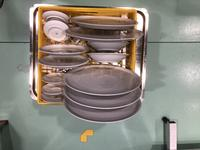Dish: (63, 64, 141, 96), (63, 96, 142, 123), (64, 85, 142, 109), (65, 26, 145, 42), (70, 16, 138, 30), (38, 55, 89, 69), (38, 44, 89, 56), (88, 40, 129, 52), (88, 53, 129, 64), (40, 92, 64, 103), (42, 72, 65, 83), (42, 83, 63, 95)
Inclined_dish: (43, 20, 71, 42), (42, 11, 70, 25)
